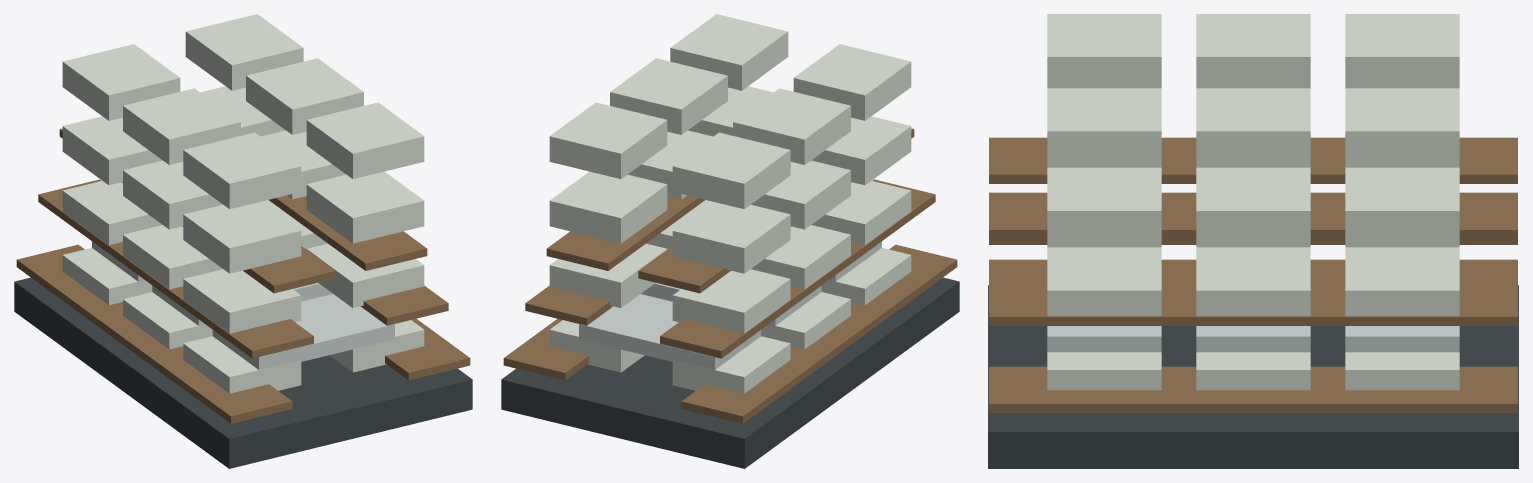
File: news-l0.glb
3 views of the same model, side by side, from view 1: azimuth 30°, elevation 25°; view 2: azimuth 150°, elevation 25°; view 3: azimuth 270°, elevation 25° (orthographic). The views are drawn at different scales.
Visible parts, largest first — view 1: news-l0_fixture_Dairy cartons.001, news-l0_fixture_Powder-coated graphite, news-l0_fixture_Oiled warm oak, news-l0_fixture_Refrigerator enamel; view 2: news-l0_fixture_Dairy cartons.001, news-l0_fixture_Powder-coated graphite, news-l0_fixture_Oiled warm oak, news-l0_fixture_Refrigerator enamel; view 3: news-l0_fixture_Dairy cartons.001, news-l0_fixture_Oiled warm oak, news-l0_fixture_Powder-coated graphite, news-l0_fixture_Refrigerator enamel.
Part boxes in pixels (bbox=[...]): news-l0_fixture_Dairy cartons.001: bbox=[62, 14, 424, 393]; news-l0_fixture_Powder-coated graphite: bbox=[14, 277, 472, 468]; news-l0_fixture_Oiled warm oak: bbox=[16, 128, 470, 423]; news-l0_fixture_Refrigerator enamel: bbox=[92, 241, 394, 369]; news-l0_fixture_Dairy cartons.001: bbox=[549, 14, 911, 393]; news-l0_fixture_Powder-coated graphite: bbox=[501, 277, 959, 468]; news-l0_fixture_Oiled warm oak: bbox=[503, 128, 957, 423]; news-l0_fixture_Refrigerator enamel: bbox=[579, 241, 881, 369]; news-l0_fixture_Dairy cartons.001: bbox=[1047, 14, 1459, 390]; news-l0_fixture_Oiled warm oak: bbox=[989, 137, 1517, 412]; news-l0_fixture_Powder-coated graphite: bbox=[988, 285, 1518, 468]; news-l0_fixture_Refrigerator enamel: bbox=[1047, 326, 1459, 352].
Size of the model in its own units: 1.7 by 1.75 by 2.6.
